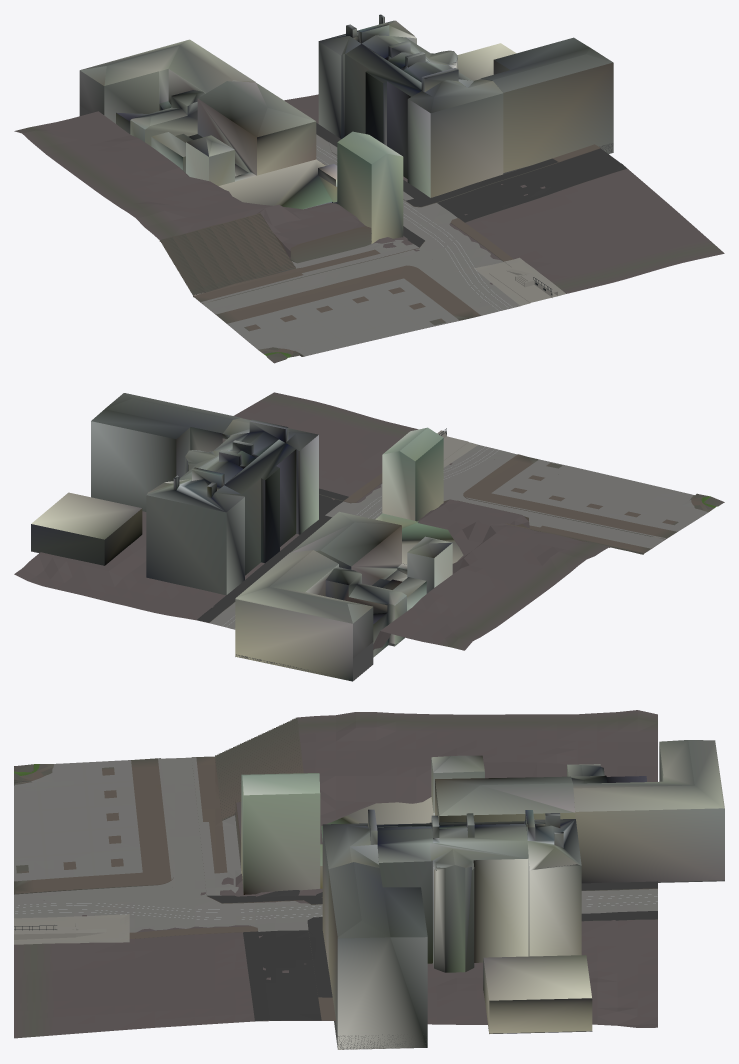
3 renders of one model, top to bottom at view 1: azimuth 30°, elevation 25°; view 2: azimuth 150°, elevation 25°; view 3: azimuth 270°, elevation 25°, orthographic. The views are drawn at different scales.
Visible parts, largest first — view 1: c_p00_m01; view 2: c_p00_m01; view 3: c_p00_m01.
Boxes of the visible parts, left/top/right/bottom form: c_p00_m01: left=14, top=14, right=724, bottom=363; c_p00_m01: left=14, top=392, right=724, bottom=681; c_p00_m01: left=14, top=710, right=724, bottom=1049.
Size of the model in its own units: 134 by 30.17 by 141.
